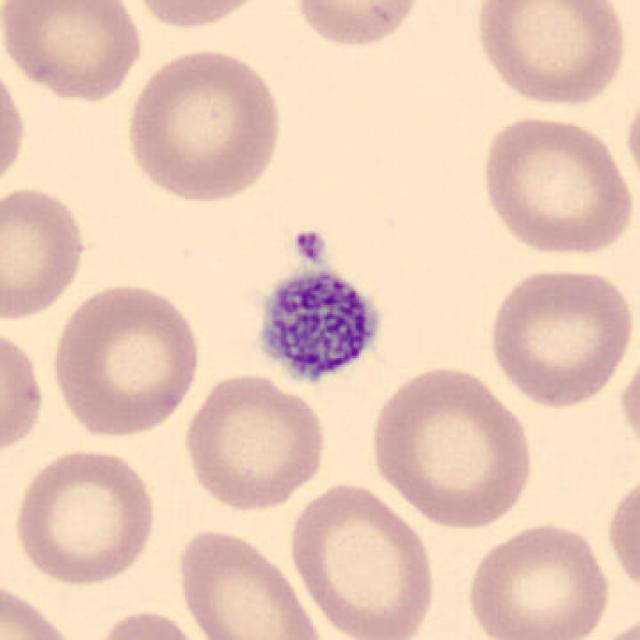Platelets: (250, 263, 386, 391), (290, 226, 329, 264)
RBC: (364, 360, 538, 530), (121, 42, 286, 206), (46, 278, 206, 441), (285, 478, 439, 640), (474, 111, 634, 259), (484, 262, 634, 410), (180, 370, 330, 515), (9, 444, 160, 587), (462, 518, 614, 640), (170, 523, 327, 640), (469, 0, 631, 109), (0, 0, 148, 104), (0, 182, 91, 324), (288, 0, 428, 51), (0, 321, 48, 464), (0, 576, 82, 640), (122, 0, 273, 33), (604, 467, 640, 603), (0, 53, 30, 197), (87, 606, 208, 640), (615, 333, 640, 462), (622, 81, 640, 201), (579, 610, 640, 640)
